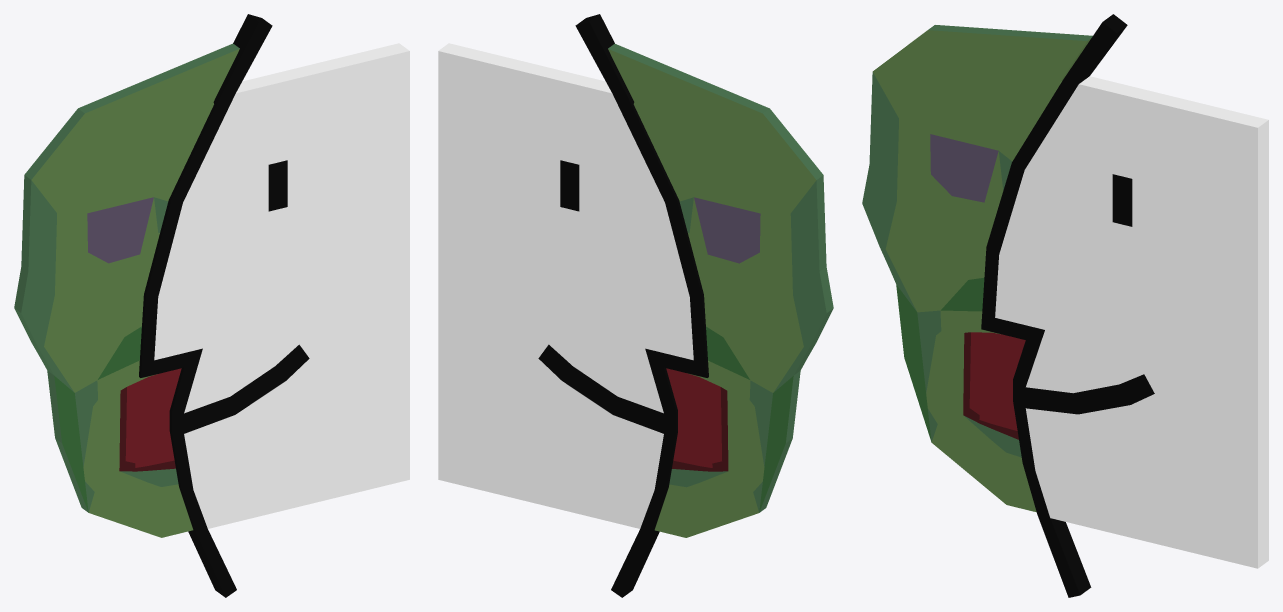
The model's file is MacOS.glb.
The picture shows the model from 3 angles, left to right: view 1: azimuth 30°, elevation 25°; view 2: azimuth 150°, elevation 25°; view 3: azimuth 330°, elevation 25°; orthographic projection. The views are drawn at different scales.
Visible parts, largest first — view 1: ZOMBIE; view 2: ZOMBIE; view 3: ZOMBIE.
Part boxes in pixels (bbox=[...]): ZOMBIE: bbox=[14, 14, 409, 597]; ZOMBIE: bbox=[438, 14, 833, 597]; ZOMBIE: bbox=[862, 14, 1268, 597].
Bounding box in the file's own units: 1.14 × 1.59 × 0.0541.
